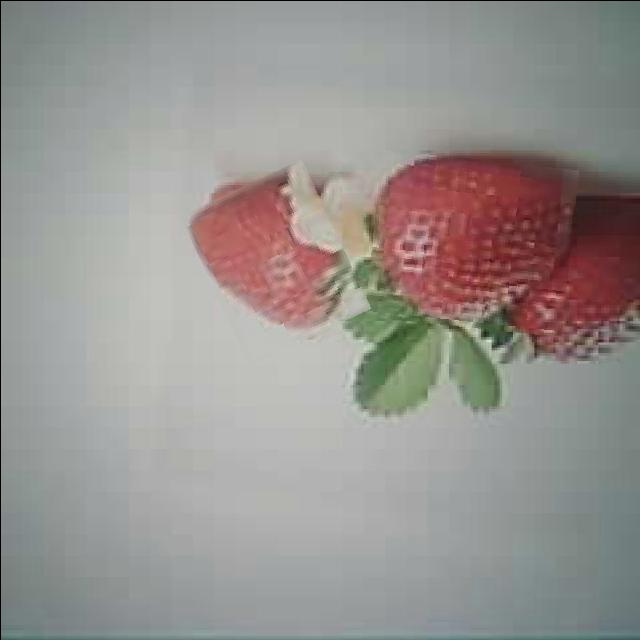strawberry: (368, 153, 574, 331), (192, 168, 356, 354)
